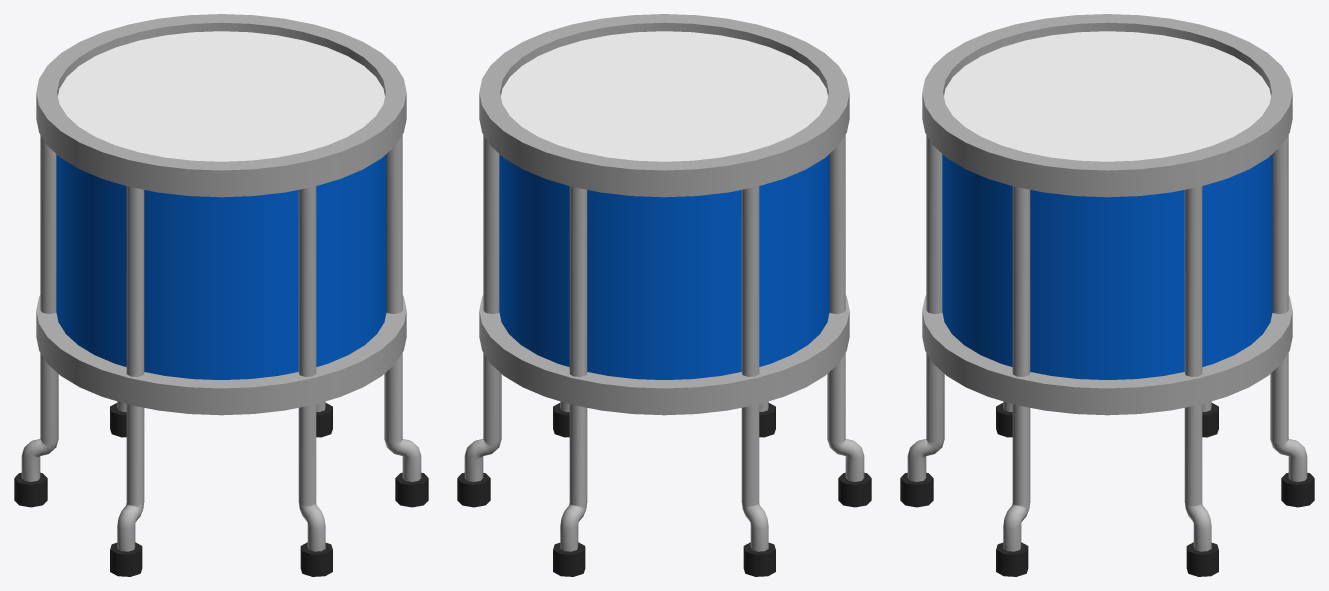
File: FloorTom.fbx
3 views of the same model, side by side, from view 1: azimuth 30°, elevation 25°; view 2: azimuth 150°, elevation 25°; view 3: azimuth 270°, elevation 25° (orthographic).
Parts seen in each view (by area): view 1: Floor_Tom; view 2: Floor_Tom; view 3: Floor_Tom.
Boxes of the visible parts, left/top/right/bottom form: Floor_Tom: left=14, top=14, right=428, bottom=576; Floor_Tom: left=457, top=14, right=871, bottom=576; Floor_Tom: left=900, top=14, right=1314, bottom=576.
Bounding box in the file's own units: 164 × 199 × 184.
